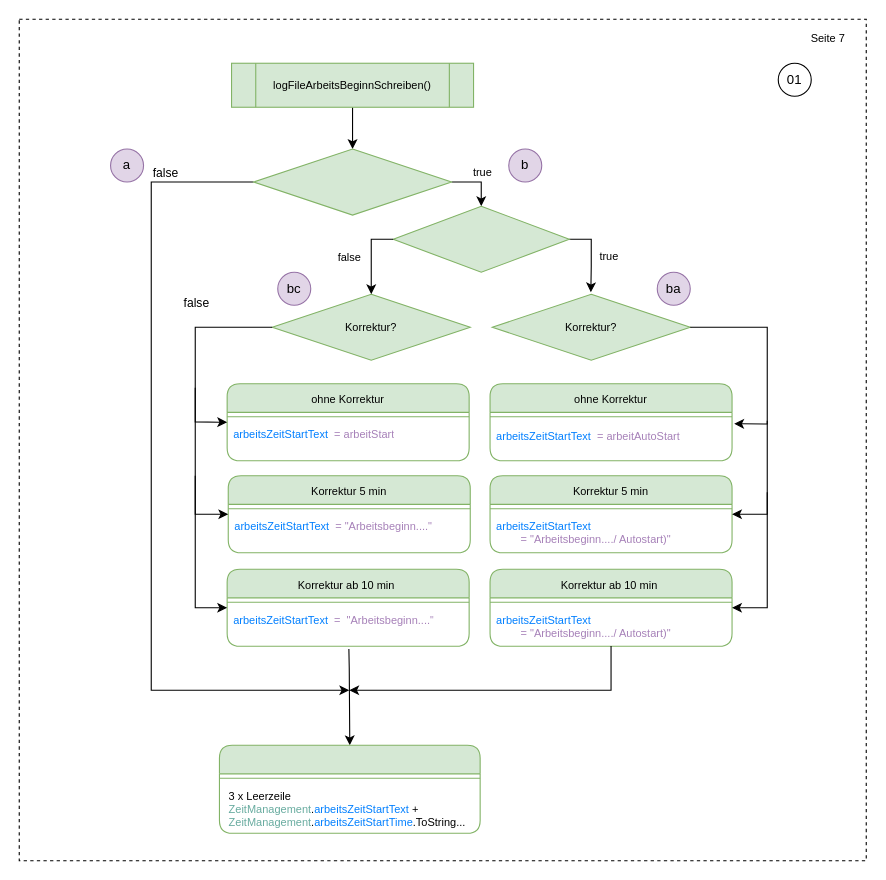
The diagram is 886 pixels wide and 880 high, and some of its shapes have lost their labels. The box of each missing label's shape, as (x1, y1, x2, y2) in pixels:
ersterAufrufAmTag?: (252, 148, 452, 215)
Logfile beschreiben: (218, 744, 480, 833)
ProgrammSettingsEinlesen. sAutostart == True: (392, 205, 569, 272)
